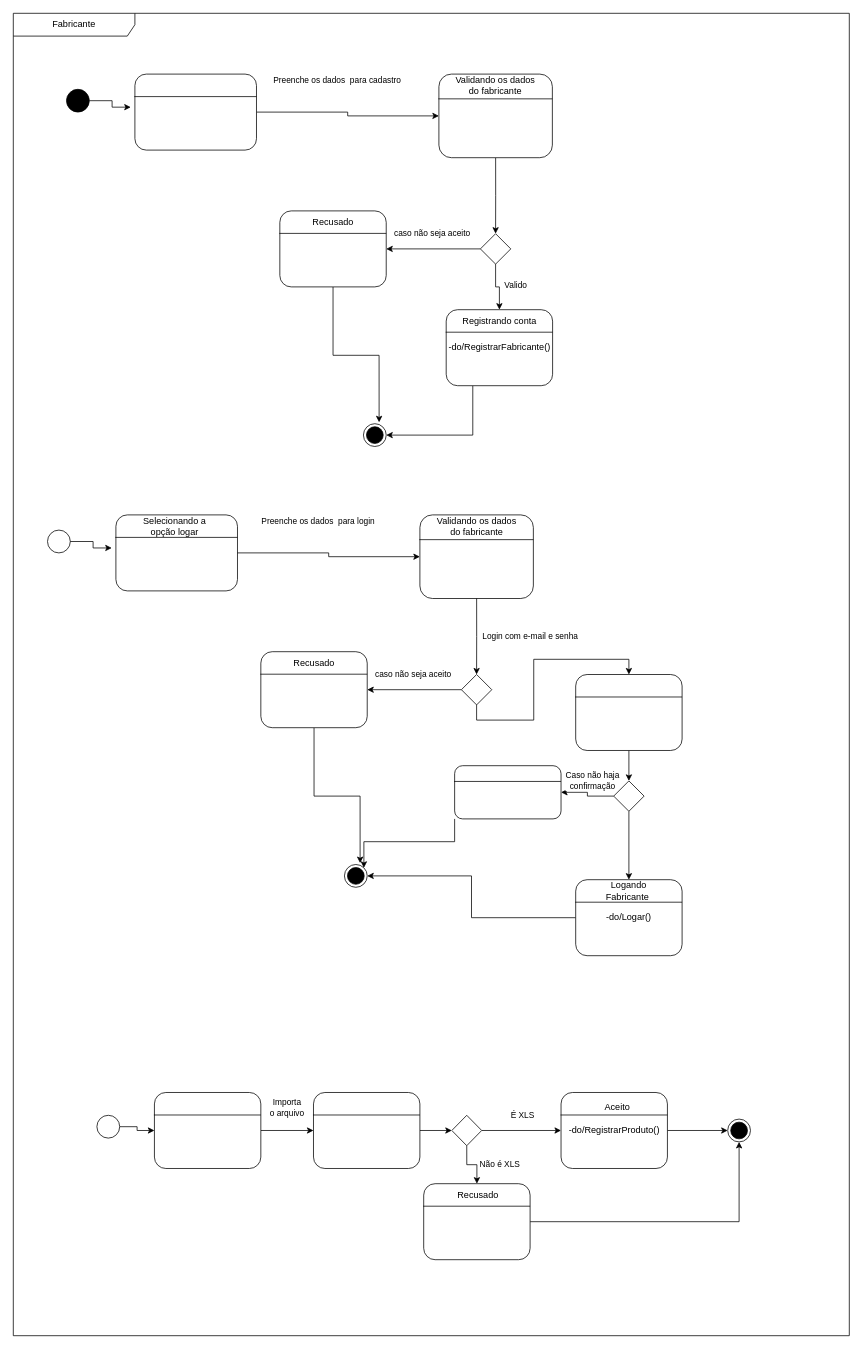
Image size: 863x1349. Some labels were removed from this diagram. Here are the shapes that lost their labels. From the top down, the centre of each, then its label:
pixel 195 111: Selecionando a opção registrar
pixel 628 712: Solicitação de acesso via e-mail
pixel 507 792: Solicitação inválida
pixel 207 1130: Enviando arquivo com os produtos
pixel 366 1130: Verificando arquivo
